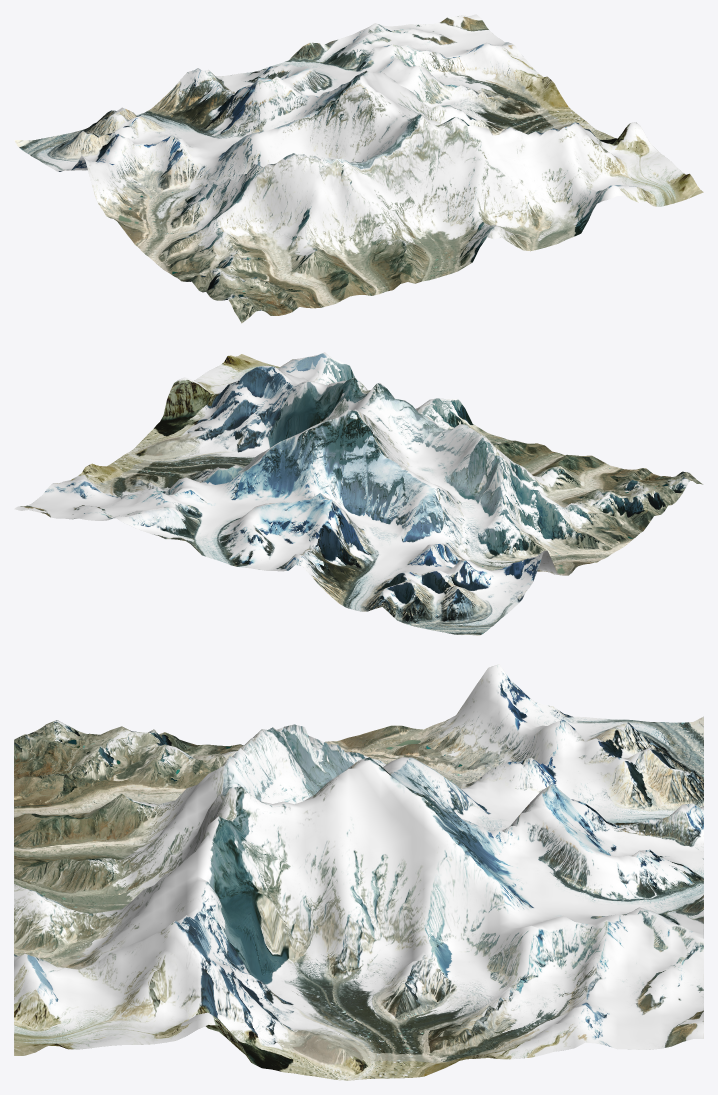
The picture shows the model from 3 angles, top to bottom: view 1: azimuth 30°, elevation 25°; view 2: azimuth 150°, elevation 25°; view 3: azimuth 270°, elevation 25°; orthographic projection. The views are drawn at different scales.
Visible parts, largest first — view 1: skfb_offset; view 2: skfb_offset; view 3: skfb_offset.
Boxes of the visible parts, <box> form: skfb_offset: <box>14,14,703,323</box>; skfb_offset: <box>14,352,703,635</box>; skfb_offset: <box>14,664,703,1080</box>.
Size of the model in its own units: 20791 by 4630 by 17733.
1 material, 1 textured.
